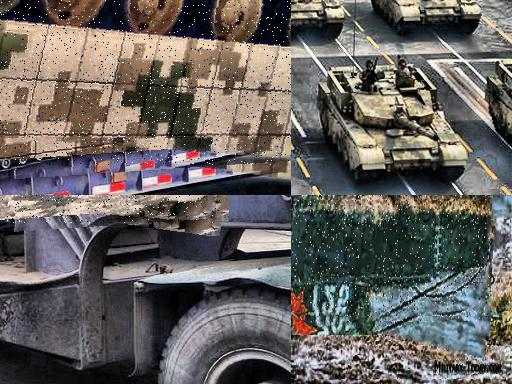tanks: (1, 1, 292, 164), (292, 196, 492, 325), (318, 67, 469, 183), (1, 196, 219, 224), (372, 1, 482, 34), (292, 1, 346, 39)
